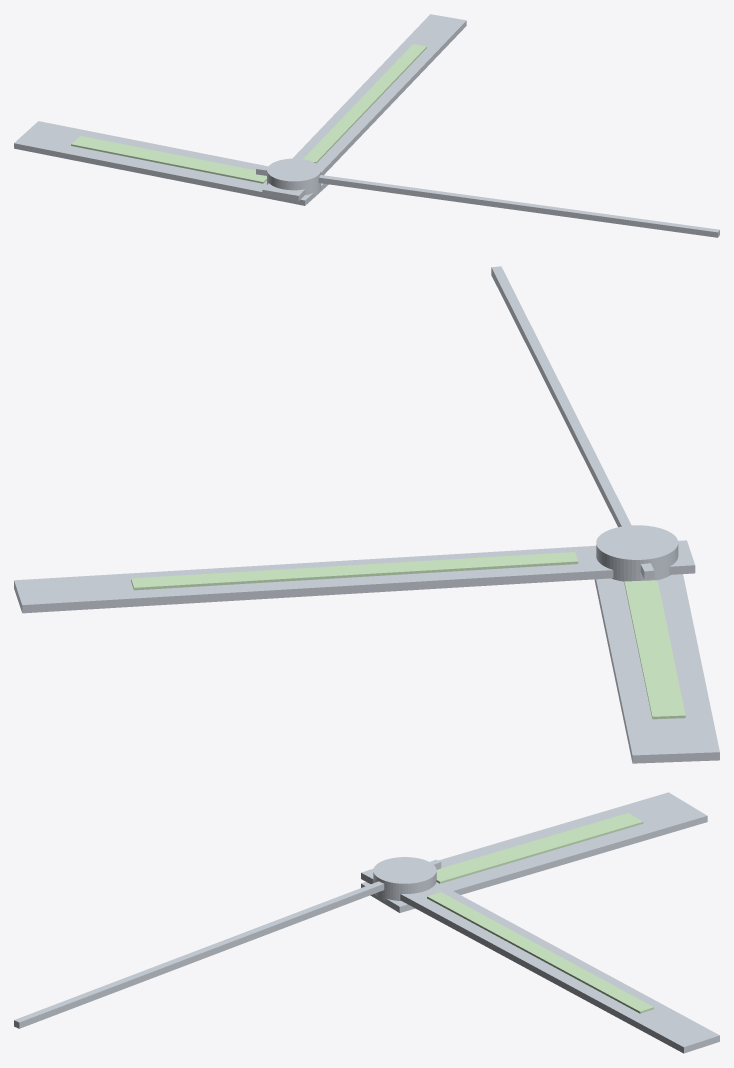
Rendered from hands-diver.glb.
The picture shows the model from 3 angles, top to bottom: view 1: azimuth 30°, elevation 25°; view 2: azimuth 150°, elevation 25°; view 3: azimuth 270°, elevation 25°; orthographic projection. The views are drawn at different scales.
Parts seen in each view (by area): view 1: DD_ARCH_HAND_0, DD_ARCH_HAND_1, DD_ARCH_HAND_2, DD_ARCH_HAND_LUME_0, DD_ARCH_HAND_LUME_1, DD_ARCH_HAND_HUB; view 2: DD_ARCH_HAND_1, DD_ARCH_HAND_0, DD_ARCH_HAND_LUME_1, DD_ARCH_HAND_LUME_0, DD_ARCH_HAND_2, DD_ARCH_HAND_HUB; view 3: DD_ARCH_HAND_1, DD_ARCH_HAND_0, DD_ARCH_HAND_2, DD_ARCH_HAND_LUME_0, DD_ARCH_HAND_LUME_1, DD_ARCH_HAND_HUB.
Boxes of the visible parts, left/top/right/bottom form: DD_ARCH_HAND_0: left=14, top=121, right=328, bottom=205; DD_ARCH_HAND_1: left=262, top=14, right=466, bottom=201; DD_ARCH_HAND_2: left=256, top=166, right=719, bottom=237; DD_ARCH_HAND_LUME_0: left=71, top=136, right=266, bottom=183; DD_ARCH_HAND_LUME_1: left=303, top=44, right=426, bottom=163; DD_ARCH_HAND_HUB: left=267, top=158, right=320, bottom=195; DD_ARCH_HAND_1: left=14, top=540, right=695, bottom=613; DD_ARCH_HAND_0: left=594, top=574, right=719, bottom=763; DD_ARCH_HAND_LUME_1: left=131, top=552, right=578, bottom=590; DD_ARCH_HAND_LUME_0: left=624, top=580, right=685, bottom=719; DD_ARCH_HAND_2: left=491, top=266, right=654, bottom=579; DD_ARCH_HAND_HUB: left=596, top=525, right=678, bottom=581; DD_ARCH_HAND_1: left=361, top=868, right=719, bottom=1053; DD_ARCH_HAND_0: left=361, top=792, right=707, bottom=912; DD_ARCH_HAND_2: left=14, top=859, right=441, bottom=1028; DD_ARCH_HAND_LUME_0: left=436, top=813, right=643, bottom=883; DD_ARCH_HAND_LUME_1: left=427, top=892, right=653, bottom=1013; DD_ARCH_HAND_HUB: left=373, top=857, right=436, bottom=900.
Size of the model in its own units: 14.2 by 0.6 by 16.16.
